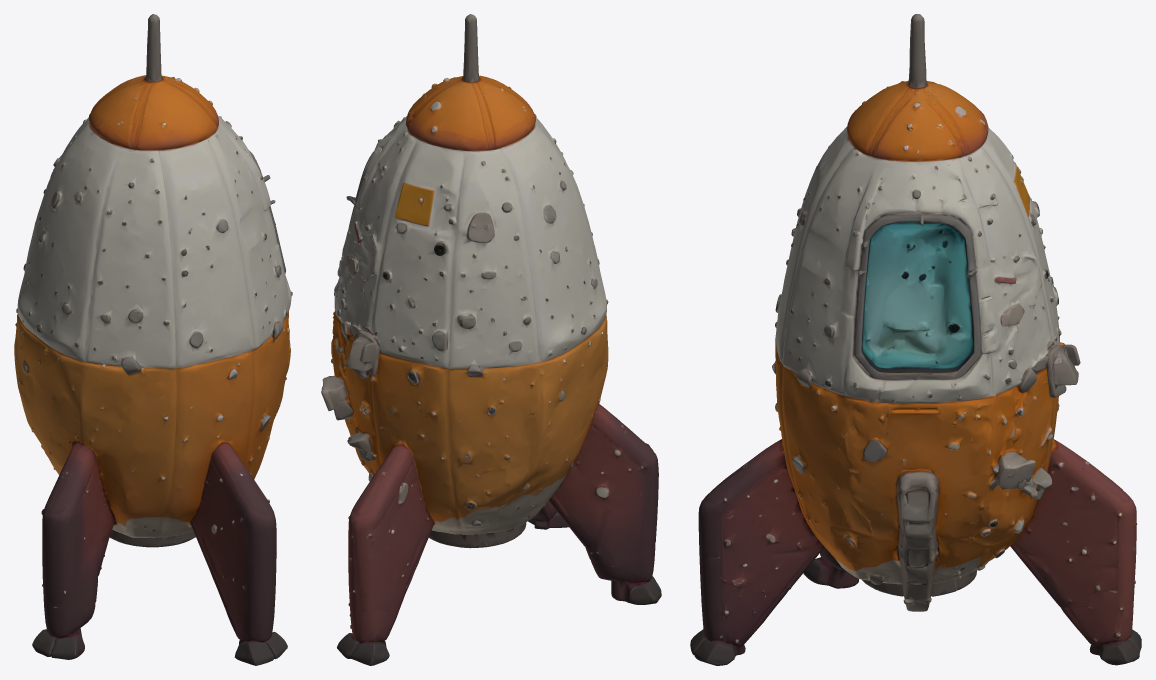
Rendered from fusee.glb.
3 views of the same model, side by side, from view 1: azimuth 30°, elevation 25°; view 2: azimuth 150°, elevation 25°; view 3: azimuth 270°, elevation 25° (orthographic). The views are drawn at different scales.
Visible parts, largest first — view 1: tripo_node_6703f4e6-39c3-4550-80b3-3a7dbff8efcb; view 2: tripo_node_6703f4e6-39c3-4550-80b3-3a7dbff8efcb; view 3: tripo_node_6703f4e6-39c3-4550-80b3-3a7dbff8efcb.
Boxes of the visible parts, x1,y1,x2,y2 form: tripo_node_6703f4e6-39c3-4550-80b3-3a7dbff8efcb: [14, 14, 292, 665]; tripo_node_6703f4e6-39c3-4550-80b3-3a7dbff8efcb: [321, 14, 661, 665]; tripo_node_6703f4e6-39c3-4550-80b3-3a7dbff8efcb: [690, 14, 1141, 665].
Size of the model in its own units: 0.5011 by 1 by 0.6466.
Materials: 1 (1 with a texture image).
